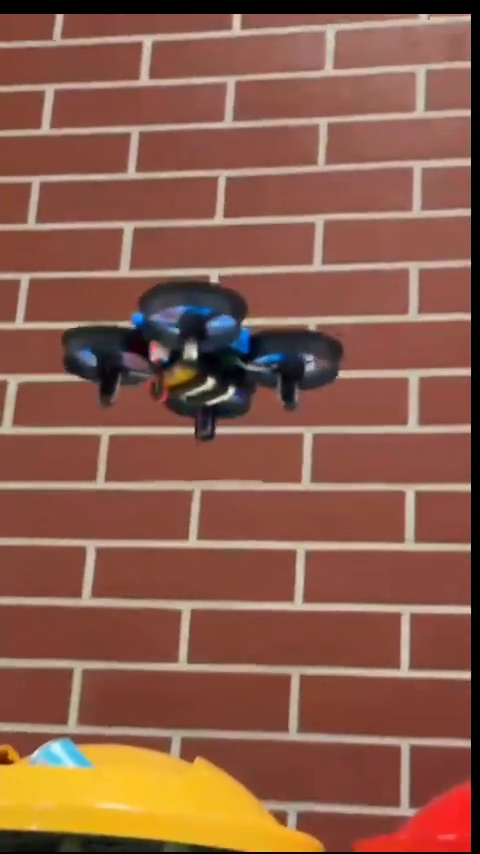drone: (60, 280, 342, 440)
